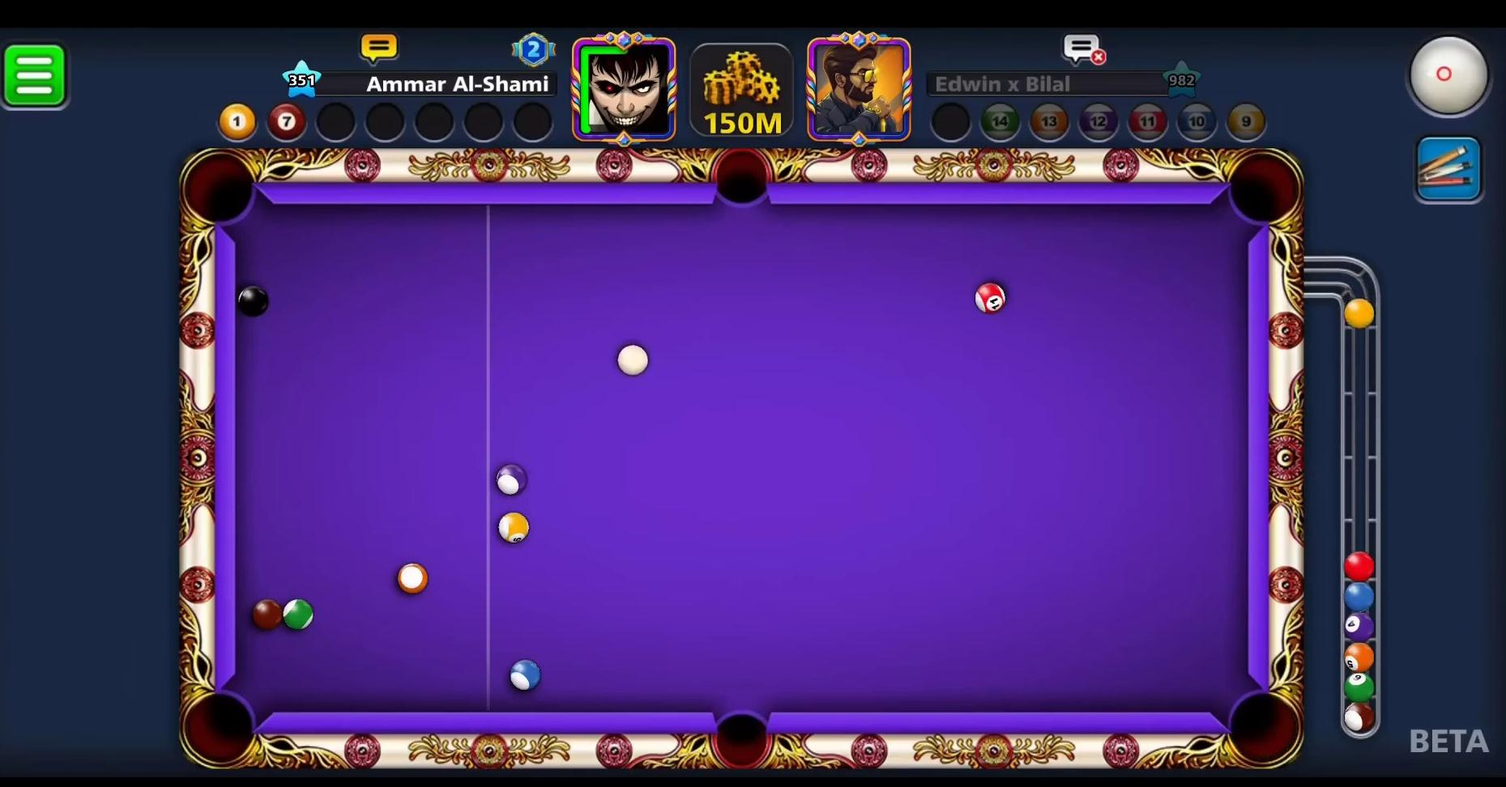Ball: (274, 588, 322, 639), (497, 653, 547, 698), (225, 282, 278, 322), (390, 560, 437, 602), (488, 458, 535, 499), (243, 596, 288, 633), (970, 279, 1009, 321), (494, 509, 535, 547)
Hole: (1210, 674, 1309, 776), (166, 679, 272, 774), (175, 140, 267, 235), (696, 688, 791, 775), (1217, 143, 1307, 233), (699, 143, 783, 221)
Play_Area: (231, 201, 1251, 714)
Spin: (1403, 28, 1503, 128)
White: (605, 340, 656, 382)
